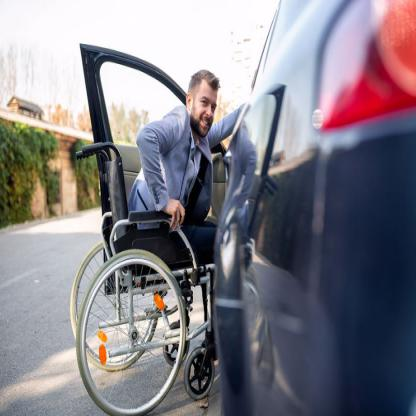wheelchair: (69, 66, 238, 414)
